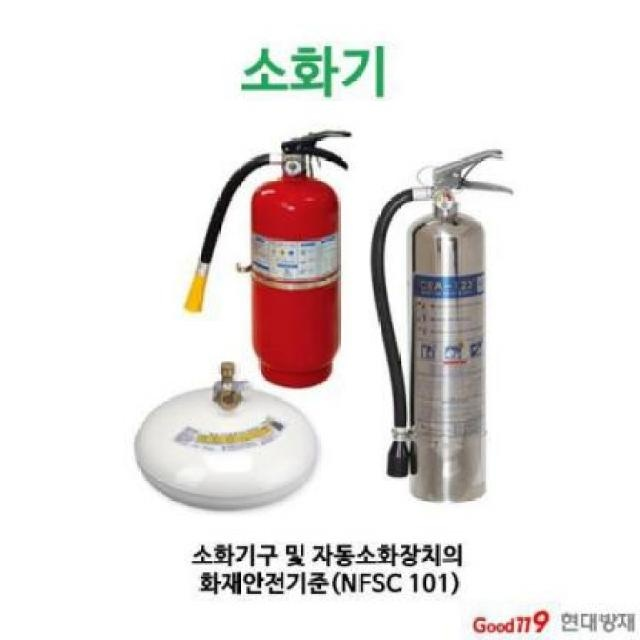fire extinguisher: (369, 147, 514, 501), (181, 130, 352, 390)
